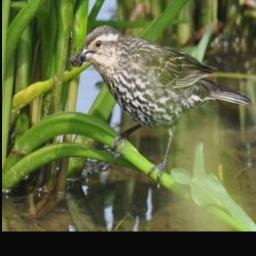Sparrow: (73, 25, 254, 185)
